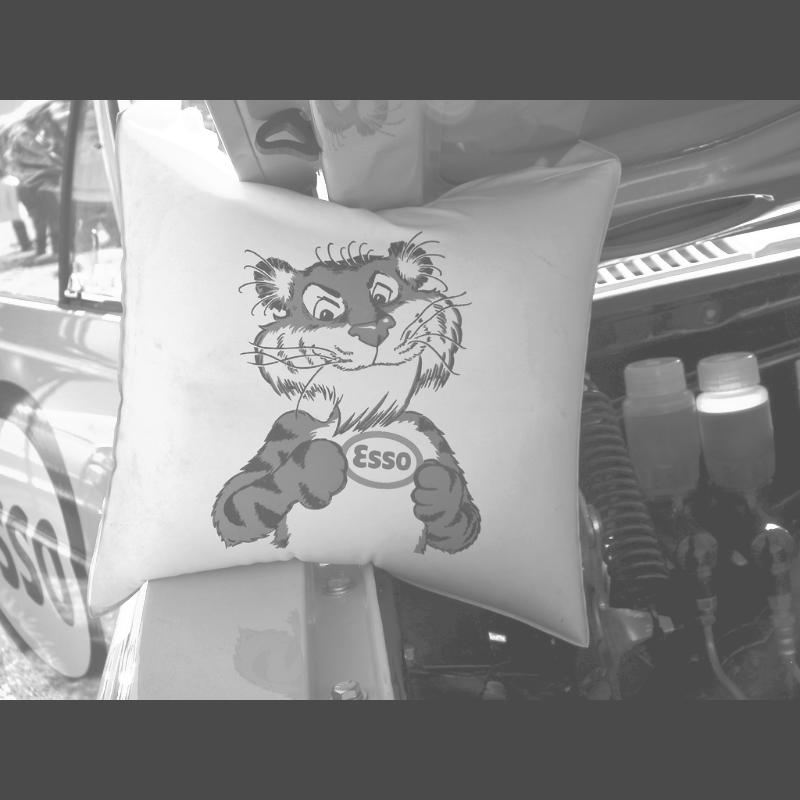pillow: (94, 119, 630, 643)
